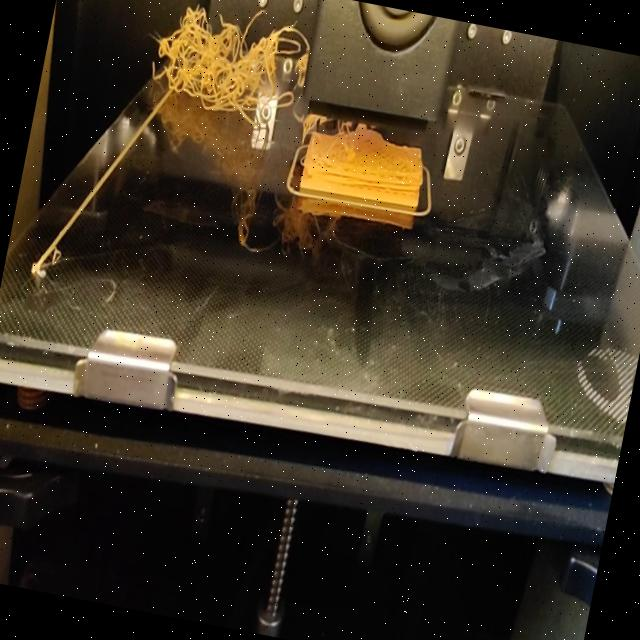spaghetti: (144, 0, 315, 129), (296, 106, 346, 145)
